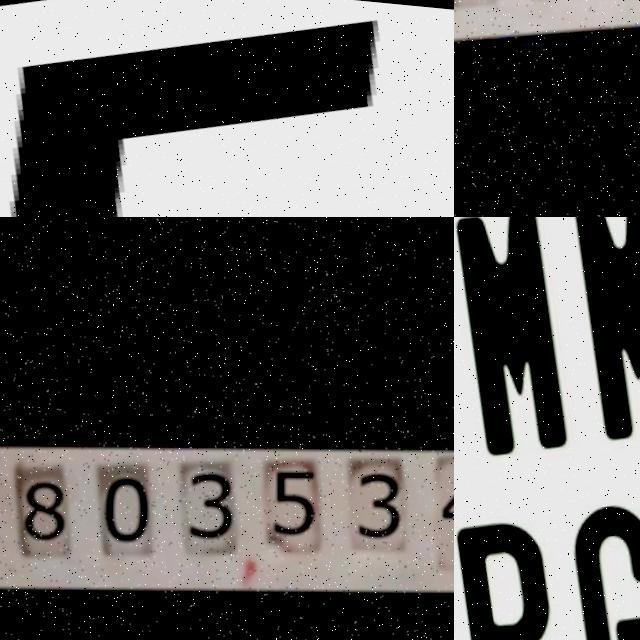0: (79, 443, 175, 559)
3: (163, 440, 257, 551), (331, 436, 423, 547)
4: (415, 430, 454, 549)
5: (246, 435, 338, 548)
8: (2, 450, 87, 555)
F: (0, 0, 454, 217)
G: (554, 486, 640, 640)
M: (454, 217, 592, 464), (553, 217, 640, 450)
P: (454, 504, 596, 640)
